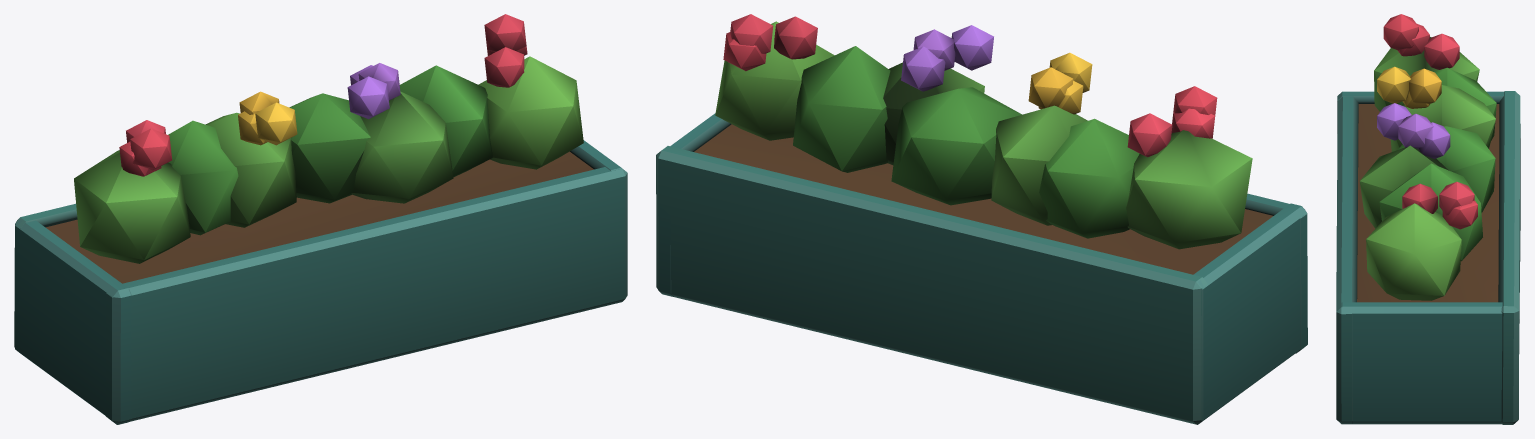
File: HD_Planter.glb
3 views of the same model, side by side, from view 1: azimuth 30°, elevation 25°; view 2: azimuth 150°, elevation 25°; view 3: azimuth 270°, elevation 25° (orthographic). The views are drawn at different scales.
Parts seen in each view (by area): view 1: HD_Planter_1_Wood, HD_Planter_3_SmoothPlastic, HD_Planter_2_Ground; view 2: HD_Planter_1_Wood, HD_Planter_3_SmoothPlastic, HD_Planter_2_Ground; view 3: HD_Planter_1_Wood, HD_Planter_3_SmoothPlastic, HD_Planter_2_Ground.
Part boxes in pixels (x1,y1,x2,y2): HD_Planter_1_Wood: [14, 140, 627, 424]; HD_Planter_3_SmoothPlastic: [74, 14, 583, 263]; HD_Planter_2_Ground: [46, 151, 593, 283]; HD_Planter_1_Wood: [656, 113, 1307, 424]; HD_Planter_3_SmoothPlastic: [715, 14, 1252, 249]; HD_Planter_2_Ground: [694, 124, 1272, 274]; HD_Planter_1_Wood: [1336, 91, 1520, 424]; HD_Planter_3_SmoothPlastic: [1359, 14, 1496, 300]; HD_Planter_2_Ground: [1357, 104, 1499, 302].
Size of the model in its own units: 4.02 by 1.92 by 1.42.
